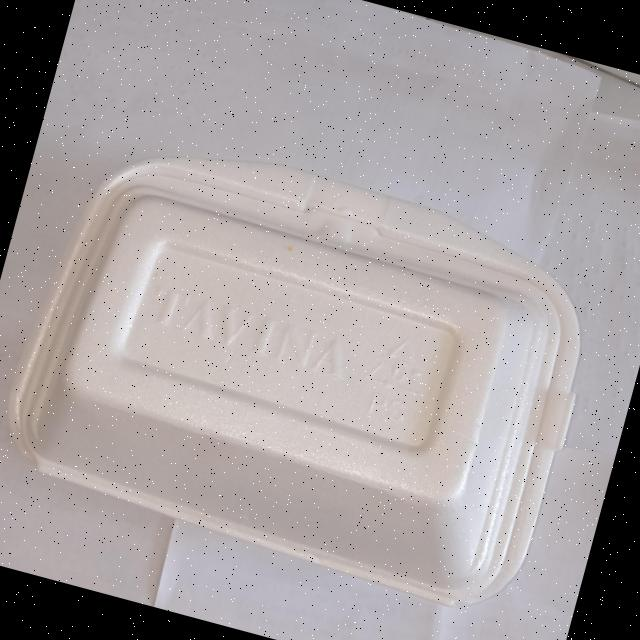styrofoam: (0, 108, 616, 625)
